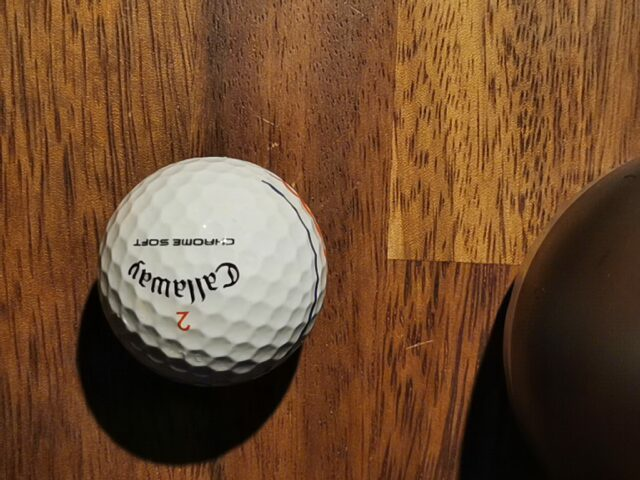Ball: (99, 157, 329, 387)
Callaway: (128, 260, 240, 304)
